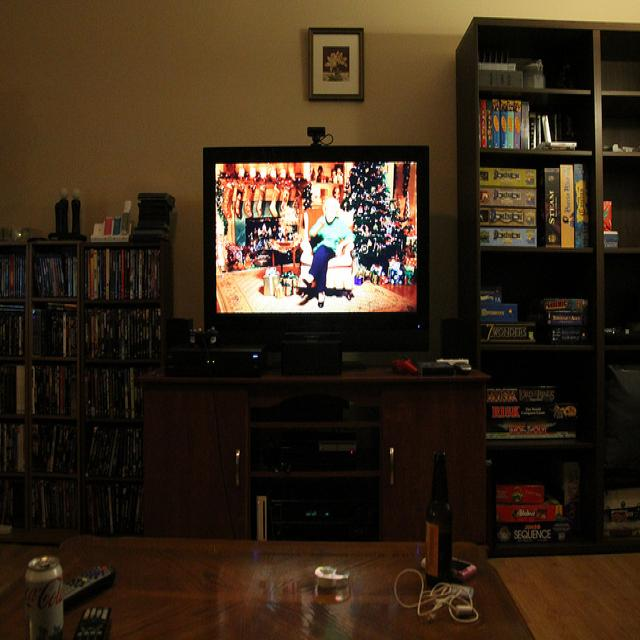Bottle: (425, 445, 457, 611), (19, 549, 65, 634)
Table: (0, 504, 543, 640)
